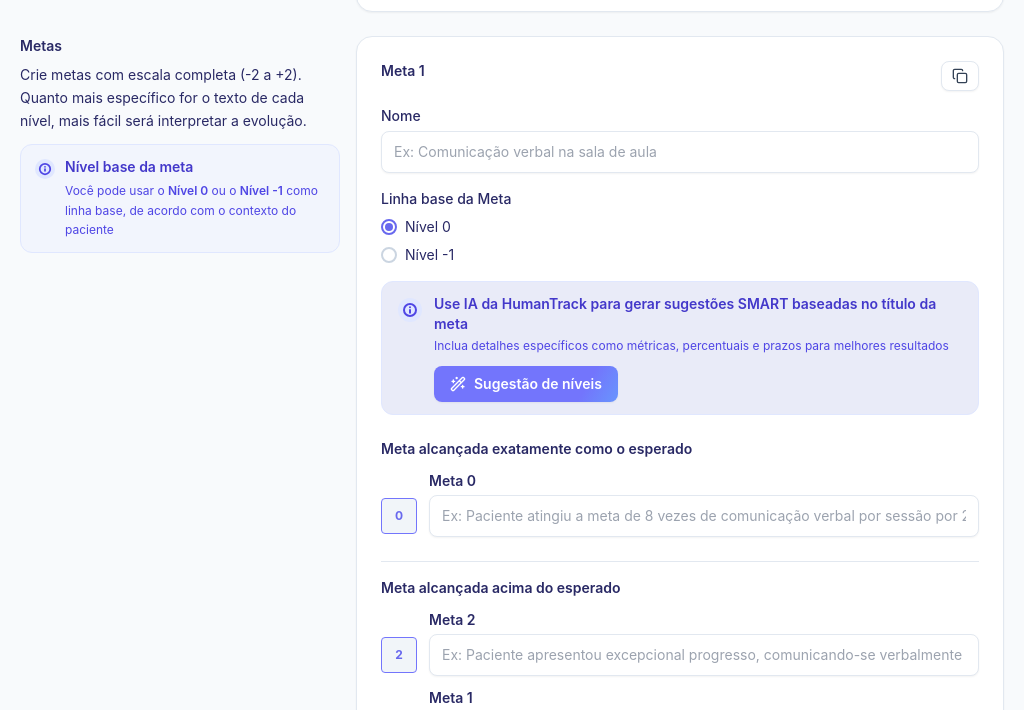
Test: App - Integration Tests › 2. Botão de IA - Sugestão de Níveis › deve validar nome da meta antes de sugerir níveis
(page scrolled)
# Tenta sugerir níveis sem preencher nome da meta
Click the button "Sugestão de níveis": (526, 384) [434, 366, 618, 402]
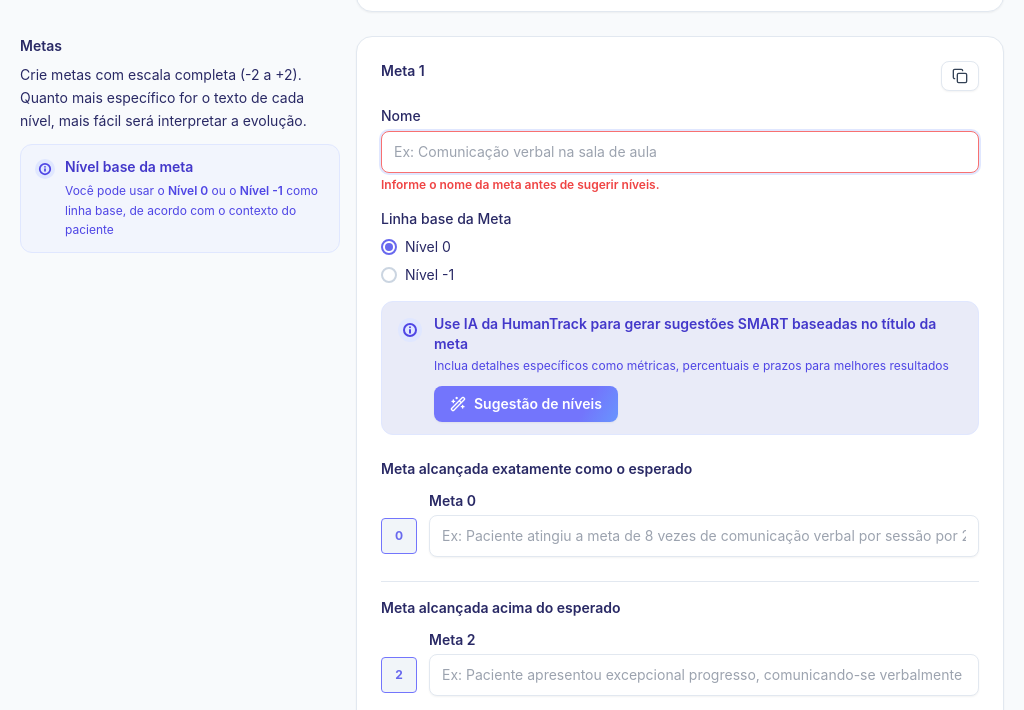
Check: the text "Informe o nome da meta antes de sugerir níveis." is shown, box [381, 177, 660, 192]
